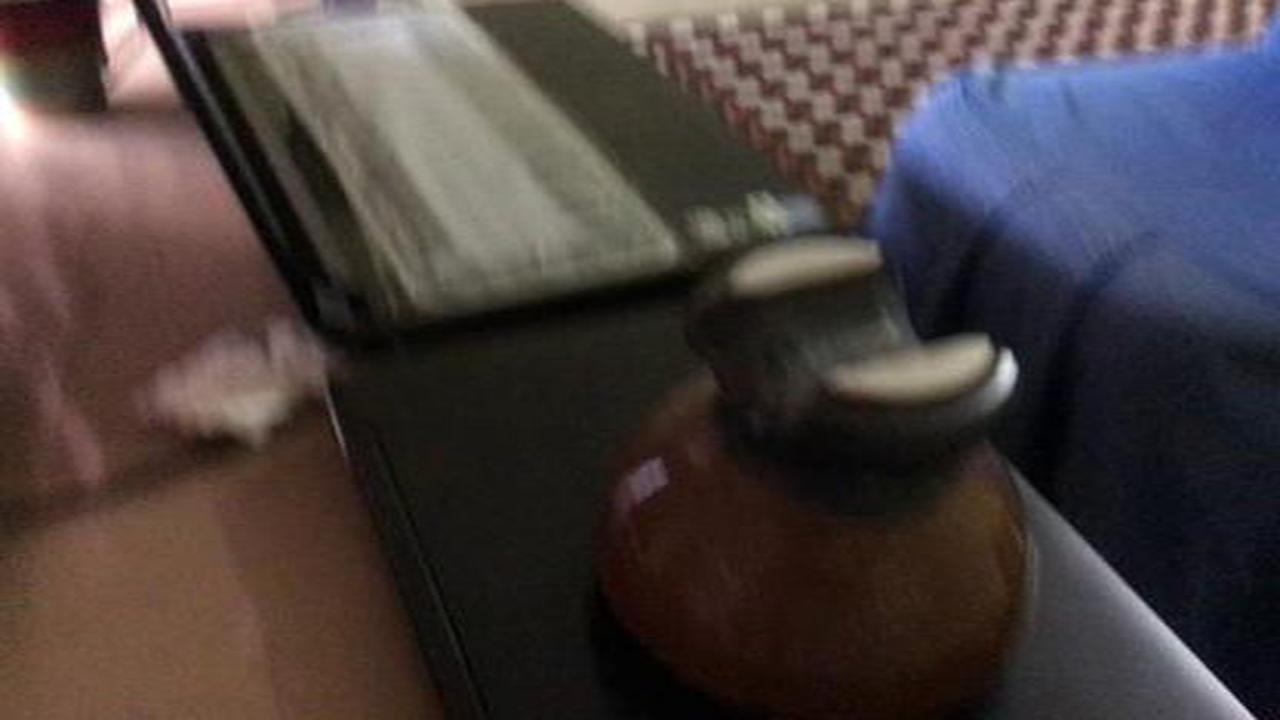insulator_pin: (582, 222, 1062, 720)
